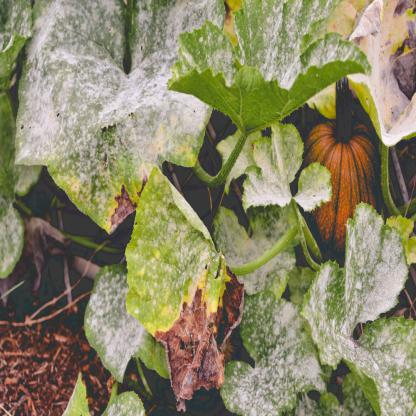Squash Powdery mildew leaf: (14, 1, 230, 216), (301, 203, 416, 409), (169, 1, 371, 102), (123, 169, 209, 318), (233, 283, 314, 415), (237, 121, 339, 215), (88, 263, 146, 372)
